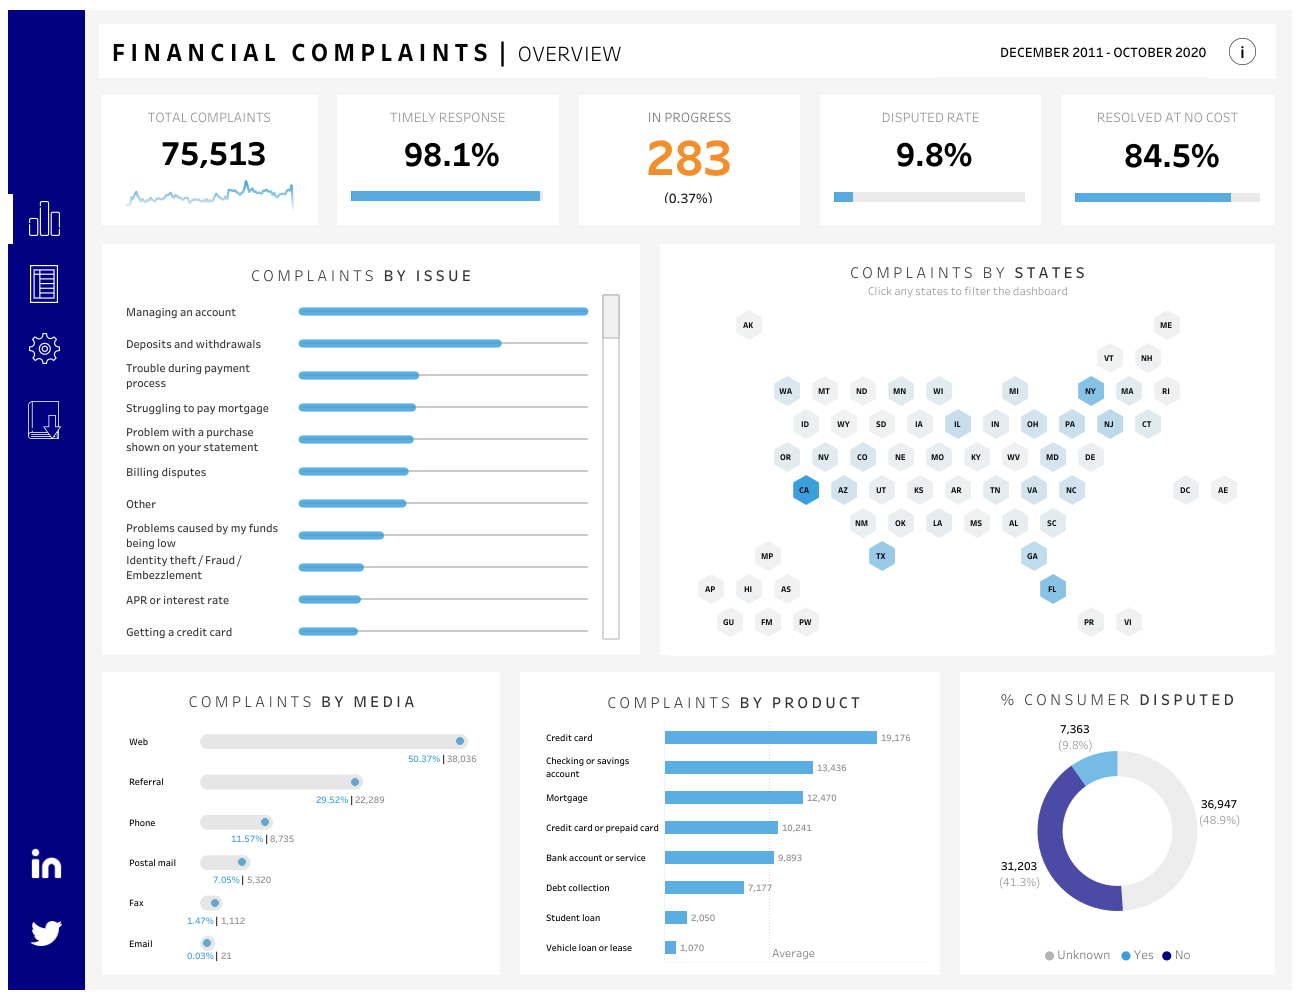

What the dashboard file says about the page in this screenshot:
{"tool":"tableau","page":{"name":"Dashboard","canvas":[1300,1000],"ordinal":0},"visuals":[{"type":"blank","box":[8,10,77,184]},{"type":"text","box":[85,10,853,75]},{"type":"text","box":[938,10,271,75]},{"type":"worksheet","title":"info","mark":"Shape","box":[1209,10,83,75]},{"type":"text","box":[101,95,217,30]},{"type":"text","box":[337,95,222,30]},{"type":"text","box":[579,95,221,30]},{"type":"text","box":[820,95,221,30]},{"type":"text","box":[1061,95,214,30]},{"type":"highlighter","title":"detail table","param":"[federated.0tkt2cd19n2tkr1h1z9bo104y5h1].[none:Complaint ID:ok]","box":[88,98,188,37]},{"type":"blank","box":[276,98,504,37]},{"type":"parameter","param":"[Parameters].[Parameter 6]","box":[780,98,163.7,37]},{"type":"parameter","param":"[Parameters].[Parameter 7]","box":[943.7,98,163.7,37]},{"type":"parameter","param":"[Parameters].[Parameter 5]","box":[1107.3,98,163.7,37]},{"type":"worksheet","title":"complaints recovered","mark":"Shape","box":[101,125,217,49]},{"type":"worksheet","title":"timely response","mark":"Shape","rows":["Timely response?"],"box":[337,125,222,50]},{"type":"worksheet","title":"in progress","mark":"Shape","rows":["Company response to consumer"],"box":[579,125,221,100]},{"type":"worksheet","title":"% disputed rate","mark":"Shape","rows":["Consumer disputed?"],"box":[820,125,221,51]},{"type":"worksheet","title":"% resolved at no cost","mark":"Shape","rows":["Company response to consumer Set"],"box":[1061,125,214,51]},{"type":"text","box":[85,135,79,43]},{"type":"text","box":[164,135,80,43]},{"type":"text","box":[244,135,175,43]},{"type":"text","box":[419,135,193,43]},{"type":"text","box":[612,135,122,43]},{"type":"text","box":[734,135,183,43]},{"type":"text","box":[917,135,155,43]},{"type":"text","box":[1072,135,202,43]},{"type":"worksheet","title":"complaints resolved bar","mark":"Line","rows":["Financial Consumer Complaints.csv_B07AF8DAAE9847F8AB82F95DB3"],"cols":["Date Sumbited"],"box":[101,174,217,51]},{"type":"worksheet","title":"kpi timely response","mark":"Bar","rows":["Timely response?"],"box":[337,175,222,50]},{"type":"worksheet","title":"kpi disputed rate","mark":"Bar","rows":["Consumer disputed?"],"box":[820,176,221,49]},{"type":"worksheet","title":"kpi resolved at no cost","mark":"Bar","rows":["Company response to consumer Set"],"box":[1061,177,214,48]},{"type":"worksheet","title":"detail table","mark":"Automatic","rows":["Complaint ID","State","Product","Issue","Submitted via","Company response to consumer"],"cols":["Calculation_2927339824743432227","Calculation_2927339824743542821"],"box":[85,178,1189,733]},{"type":"blank","box":[8,194,5,50]},{"type":"dashboard-object","box":[13,194,50,50]},{"type":"blank","box":[8,244,77,15]},{"type":"worksheet","title":"complaints by issue","mark":"Line","rows":["Issue"],"cols":["Calculation_5860379452262612994"],"box":[102,244,538,411]},{"type":"worksheet","title":"complaints by location","mark":"Automatic","rows":["Row"],"cols":["Column"],"box":[660,244,615,411]},{"type":"blank","box":[8,259,5,50]},{"type":"dashboard-object","box":[13,259,50,50]},{"type":"text","box":[865,275,206,30]},{"type":"blank","box":[8,309,77,15]},{"type":"blank","box":[8,324,5,50]},{"type":"dashboard-object","box":[13,324,50,50]},{"type":"text","box":[85,335,266,49]},{"type":"blank","box":[8,374,77,15]},{"type":"parameter","param":"[Parameters].[Parameter 3]","box":[85,384,266,55.5]},{"type":"blank","box":[8,389,5,62]},{"type":"dashboard-object","box":[13,389,50,62]},{"type":"parameter","param":"[Parameters].[Parameter 4]","box":[85,439.5,266,55.5]},{"type":"blank","box":[8,451,77,358]},{"type":"blank","box":[85,495,266,32]},{"type":"worksheet","title":"complaint by media","mark":"Line","rows":["Submitted via"],"cols":["Calculation_4804074232652607497"],"box":[102,672,398,303]},{"type":"worksheet","title":"complaints by product","mark":"Bar","rows":["Product"],"cols":["Financial Consumer Complaints.csv_B07AF8DAAE9847F8AB82F95DB3"],"box":[520,672,420,303]},{"type":"worksheet","title":"consumer disputed","mark":"Pie","rows":["Calculation_2927339823999074317","Calculation_2927339823999074317"],"box":[970,682,295,262]},{"type":"image","param":"Image/-linkedin.png","box":[8,809,77,90.5]},{"type":"image","param":"Image/-twitter.png","box":[8,899.5,77,90.5]},{"type":"text","box":[970,944,295,21]}]}

Visuals, with their boxes in screenshot pixels (x1, y1, x2, y2):
blank: 8 37 81 211
text: 81 37 890 108
text: 890 37 1148 108
"info" worksheet (Shape marks): 1148 37 1226 108
text: 96 117 302 146
text: 320 117 531 146
text: 550 117 759 146
text: 778 117 988 146
text: 1007 117 1210 146
"detail table" highlighter: 84 120 262 155
blank: 262 120 740 155
parameter: 740 120 896 155
parameter: 896 120 1051 155
parameter: 1051 120 1206 155
"complaints recovered" worksheet (Shape marks): 96 146 302 192
"timely response" worksheet (Shape marks): 320 146 531 193
"in progress" worksheet (Shape marks): 550 146 759 241
"% disputed rate" worksheet (Shape marks): 778 146 988 194
"% resolved at no cost" worksheet (Shape marks): 1007 146 1210 194
text: 81 155 156 196
text: 156 155 232 196
text: 232 155 398 196
text: 398 155 581 196
text: 581 155 697 196
text: 697 155 870 196
text: 870 155 1018 196
text: 1018 155 1209 196
"complaints resolved bar" worksheet (Line marks): 96 192 302 241
"kpi timely response" worksheet (Bar marks): 320 193 531 241
"kpi disputed rate" worksheet (Bar marks): 778 194 988 241
"kpi resolved at no cost" worksheet (Bar marks): 1007 195 1210 241
"detail table" worksheet: 81 196 1209 892
blank: 8 211 12 259
dashboard-object: 12 211 60 259
blank: 8 259 81 273
"complaints by issue" worksheet (Line marks): 97 259 608 649
"complaints by location" worksheet: 627 259 1210 649
blank: 8 273 12 320
dashboard-object: 12 273 60 320
text: 821 288 1017 317
blank: 8 320 81 335
blank: 8 335 12 382
dashboard-object: 12 335 60 382
text: 81 345 333 392
blank: 8 382 81 396
parameter: 81 392 333 444
blank: 8 396 12 455
dashboard-object: 12 396 60 455
parameter: 81 444 333 497
blank: 8 455 81 795
blank: 81 497 333 527
"complaint by media" worksheet (Line marks): 97 665 475 953
"complaints by product" worksheet (Bar marks): 494 665 892 953
"consumer disputed" worksheet (Pie marks): 921 674 1201 923
image: 8 795 81 881
image: 8 881 81 967
text: 921 923 1201 943
